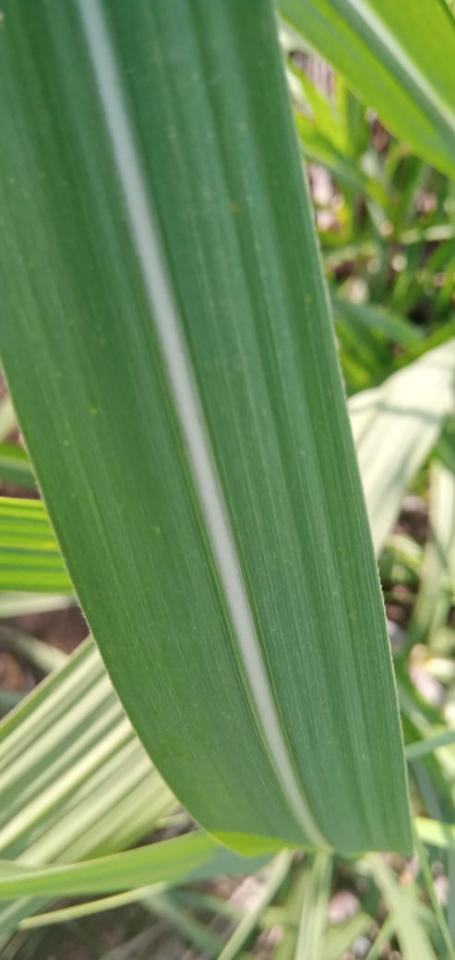Healthy: (98, 0, 412, 854), (0, 0, 311, 861), (0, 635, 178, 864), (0, 498, 71, 594)
